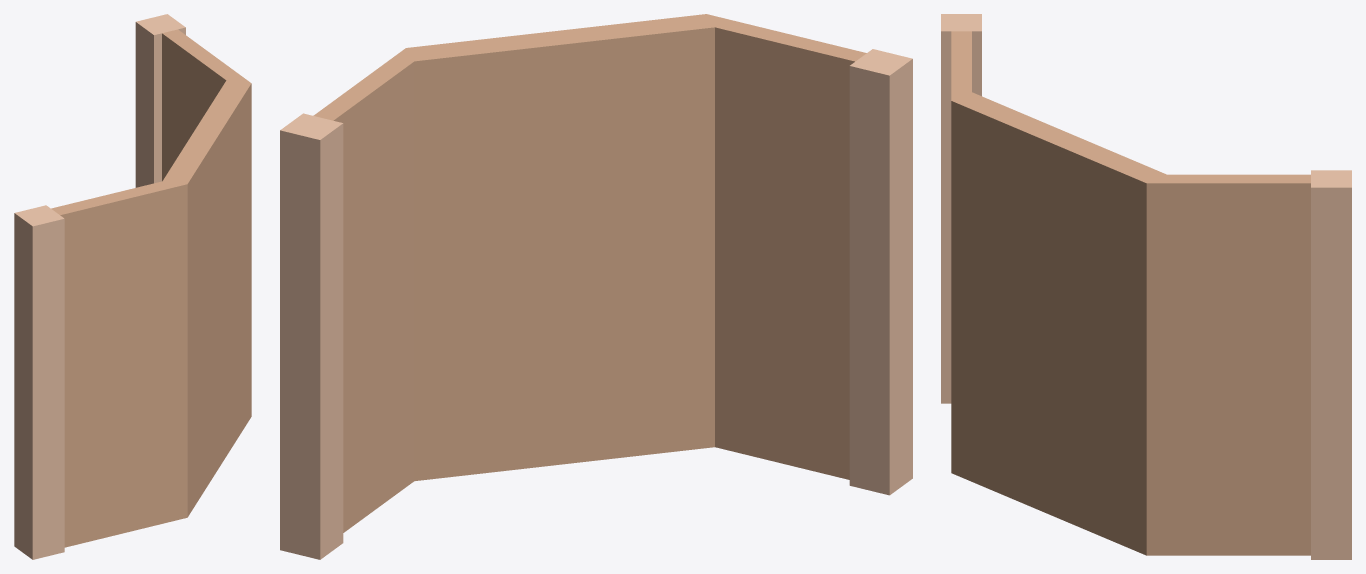
3 views of the same model, side by side, from view 1: azimuth 30°, elevation 25°; view 2: azimuth 150°, elevation 25°; view 3: azimuth 270°, elevation 25° (orthographic). The views are drawn at different scales.
Visible parts, largest first — view 1: wallWoodCornerDiagonal; view 2: wallWoodCornerDiagonal; view 3: wallWoodCornerDiagonal.
Boxes of the visible parts, x1,y1,x2,y2 form: wallWoodCornerDiagonal: (14,14,251,559); wallWoodCornerDiagonal: (280,14,912,559); wallWoodCornerDiagonal: (941,14,1351,559).
Bounding box in the file's own units: 1 × 1 × 1.
